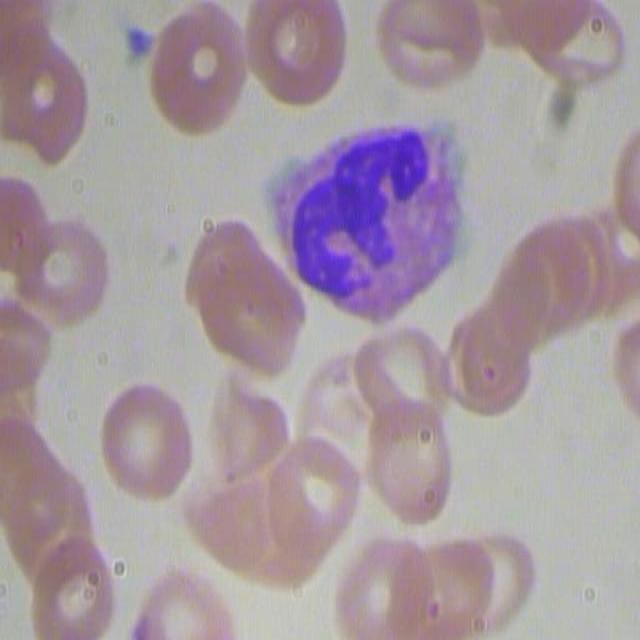RBC: (193, 221, 304, 387), (499, 203, 620, 345), (146, 3, 252, 138), (0, 5, 86, 167), (353, 398, 458, 522), (232, 1, 353, 107), (101, 376, 196, 506), (7, 217, 114, 330), (430, 299, 532, 417), (435, 525, 541, 637), (374, 1, 489, 101), (354, 307, 448, 429), (265, 442, 361, 554), (333, 529, 430, 637), (527, 1, 631, 98), (26, 536, 117, 637), (130, 565, 237, 640)
WBC: (289, 112, 460, 333)
